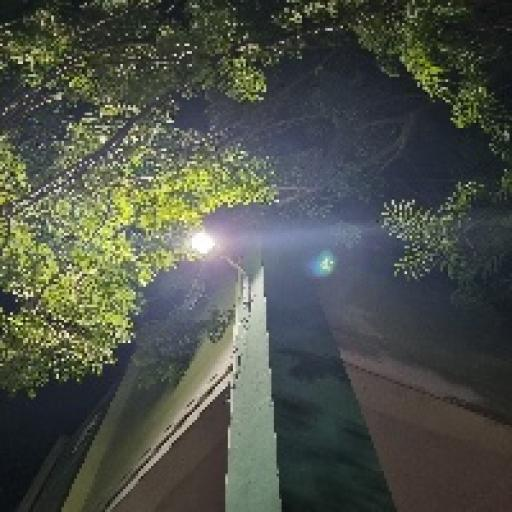Working: (182, 230, 224, 263)
